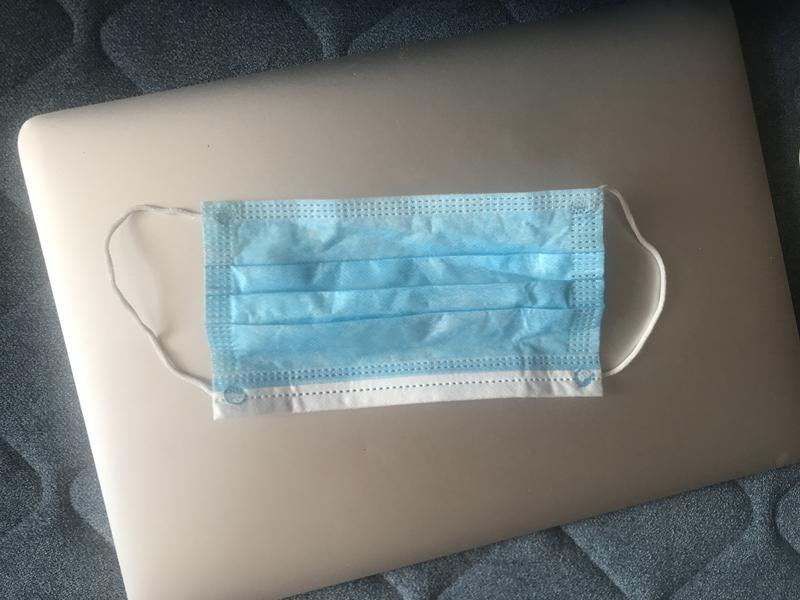medical_mask: (103, 183, 667, 422)
